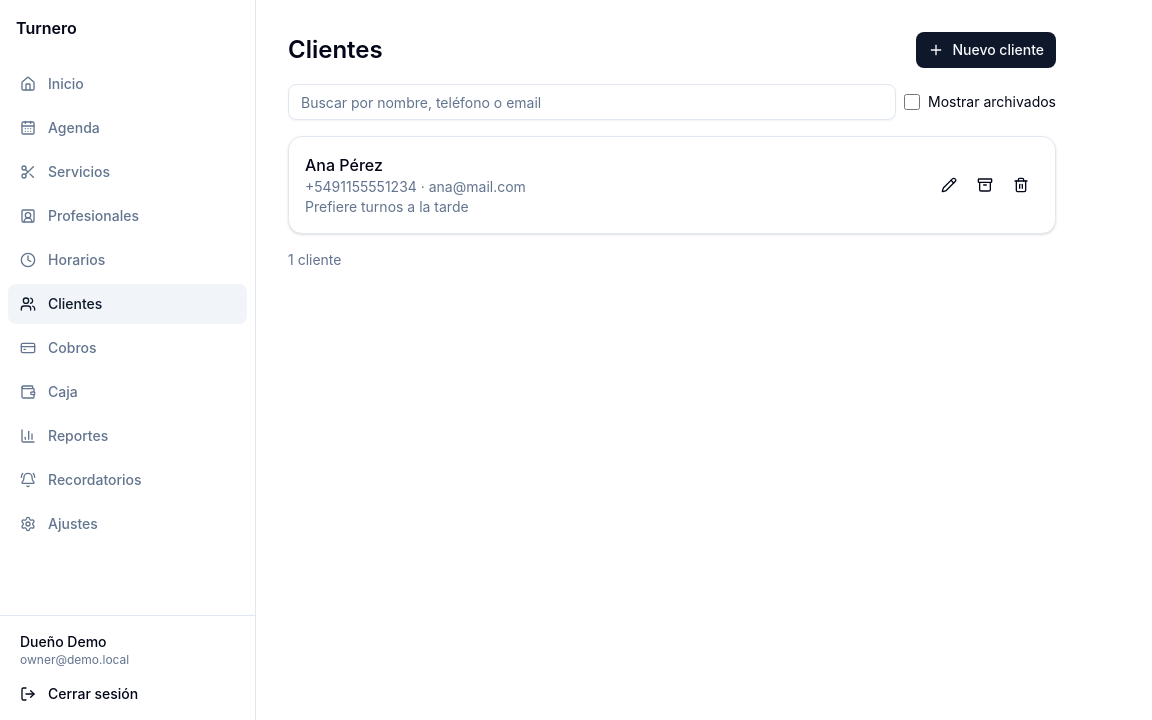
Test case: customers page › shows the history error when the API refuses to delete
Click the button named "Eliminar Ana Pérez" at point(1021, 185), box x1=1003 y1=167 x2=1039 y2=203
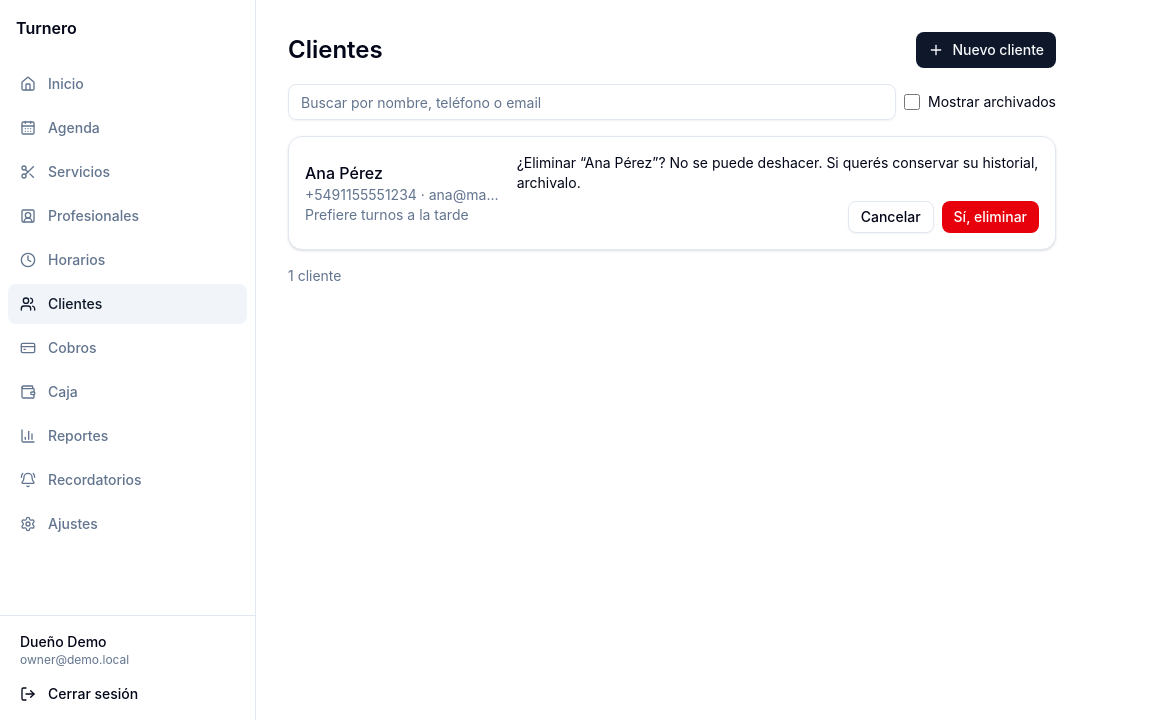
Click the button "Sí, eliminar" at point(990, 217), box x1=942 y1=201 x2=1039 y2=233
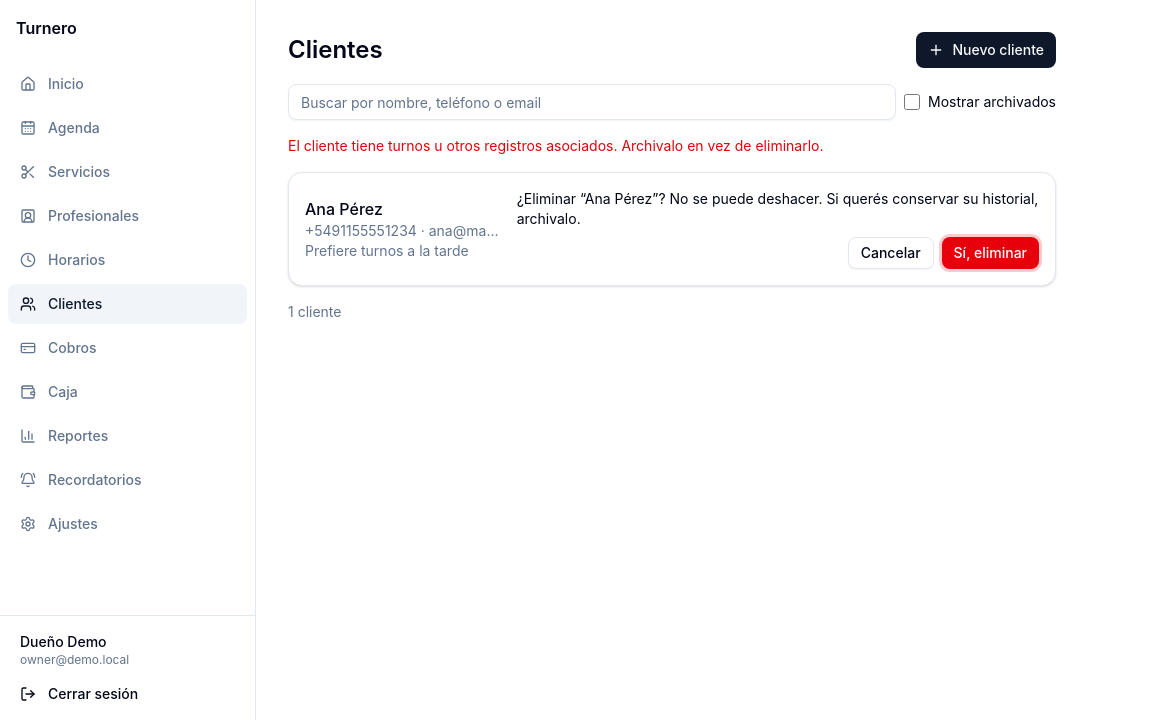
Result: the message shows "Archivalo en vez de eliminarlo" at x1=288 y1=137 x2=824 y2=154
